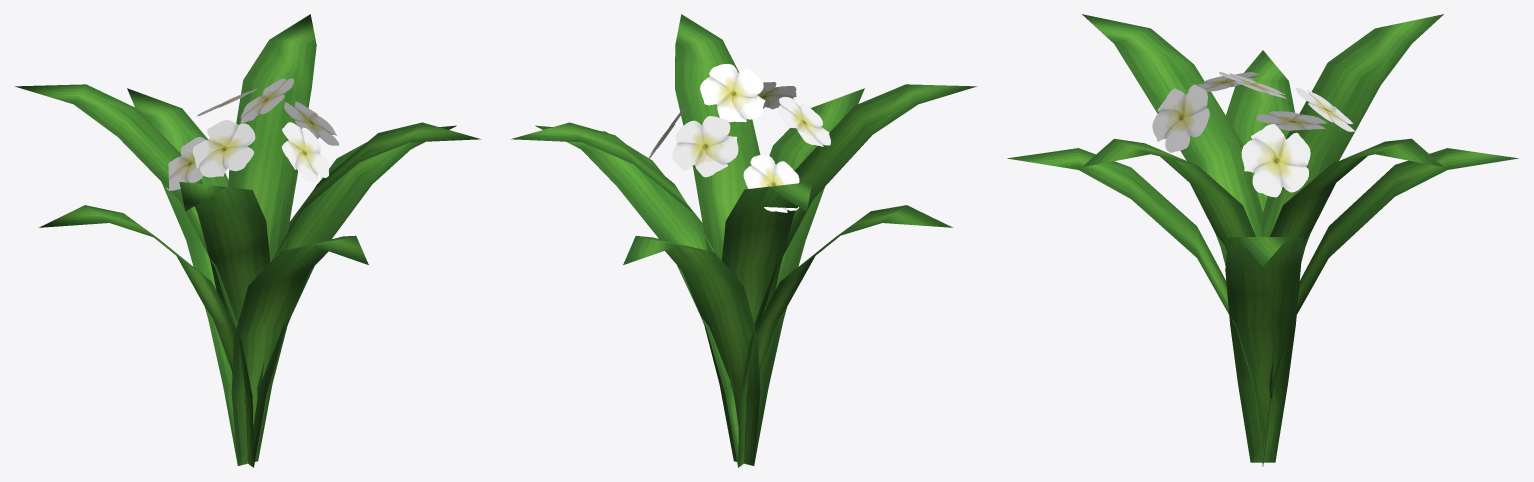
File: Flowers.fbx
3 views of the same model, side by side, from view 1: azimuth 30°, elevation 25°; view 2: azimuth 150°, elevation 25°; view 3: azimuth 270°, elevation 25° (orthographic). The views are drawn at different scales.
Visible parts, largest first — view 1: Flowers_High; view 2: Flowers_High; view 3: Flowers_High.
Boxes of the visible parts, <box> form: Flowers_High: <box>15,14,480,467</box>; Flowers_High: <box>511,14,976,467</box>; Flowers_High: <box>1007,14,1518,466</box>.
Bounding box in the file's own units: 1.58 × 1.4 × 1.58.
